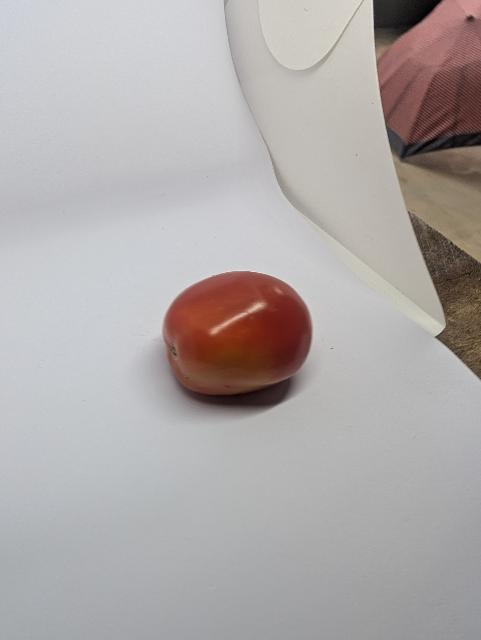red: (143, 243, 342, 424)
